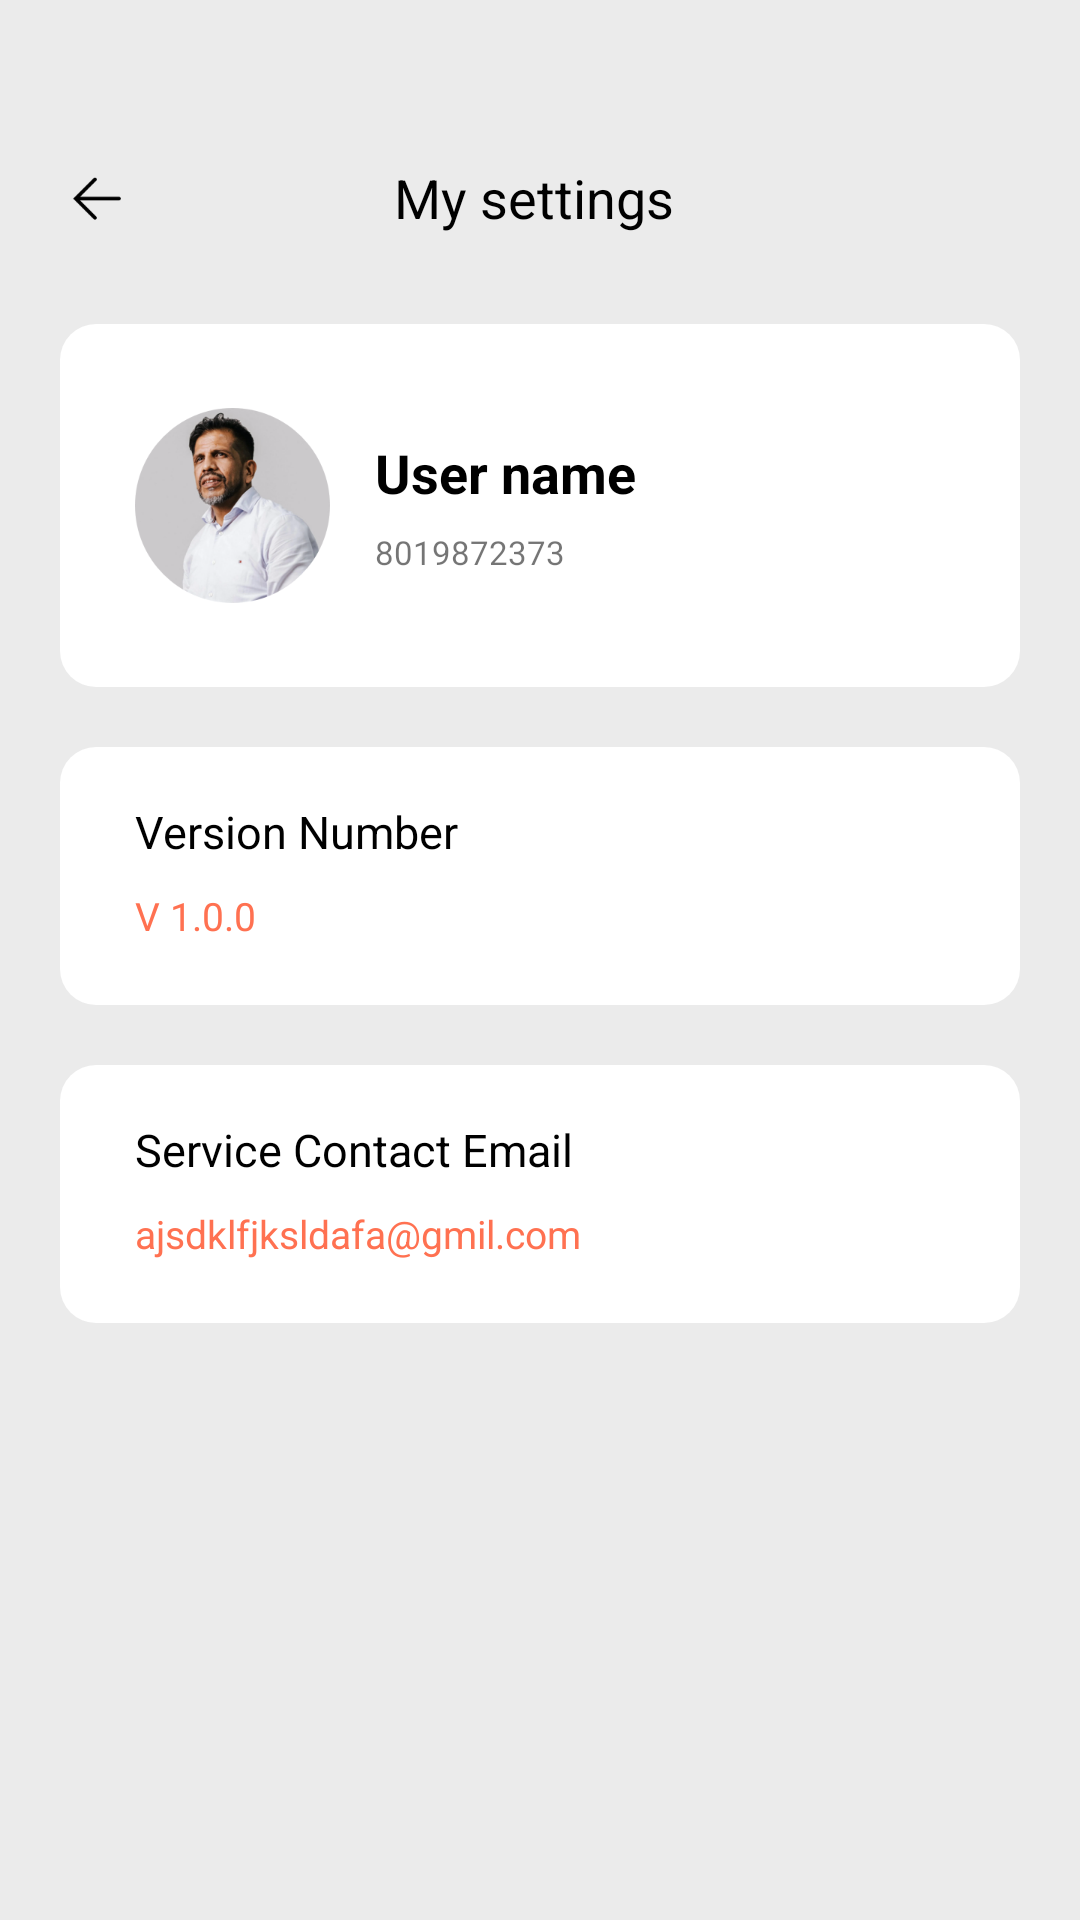

Where icons sit on this 1080px×1920px app screen, as (x1, y1, x2, y2):
back: (73, 177, 121, 220)
